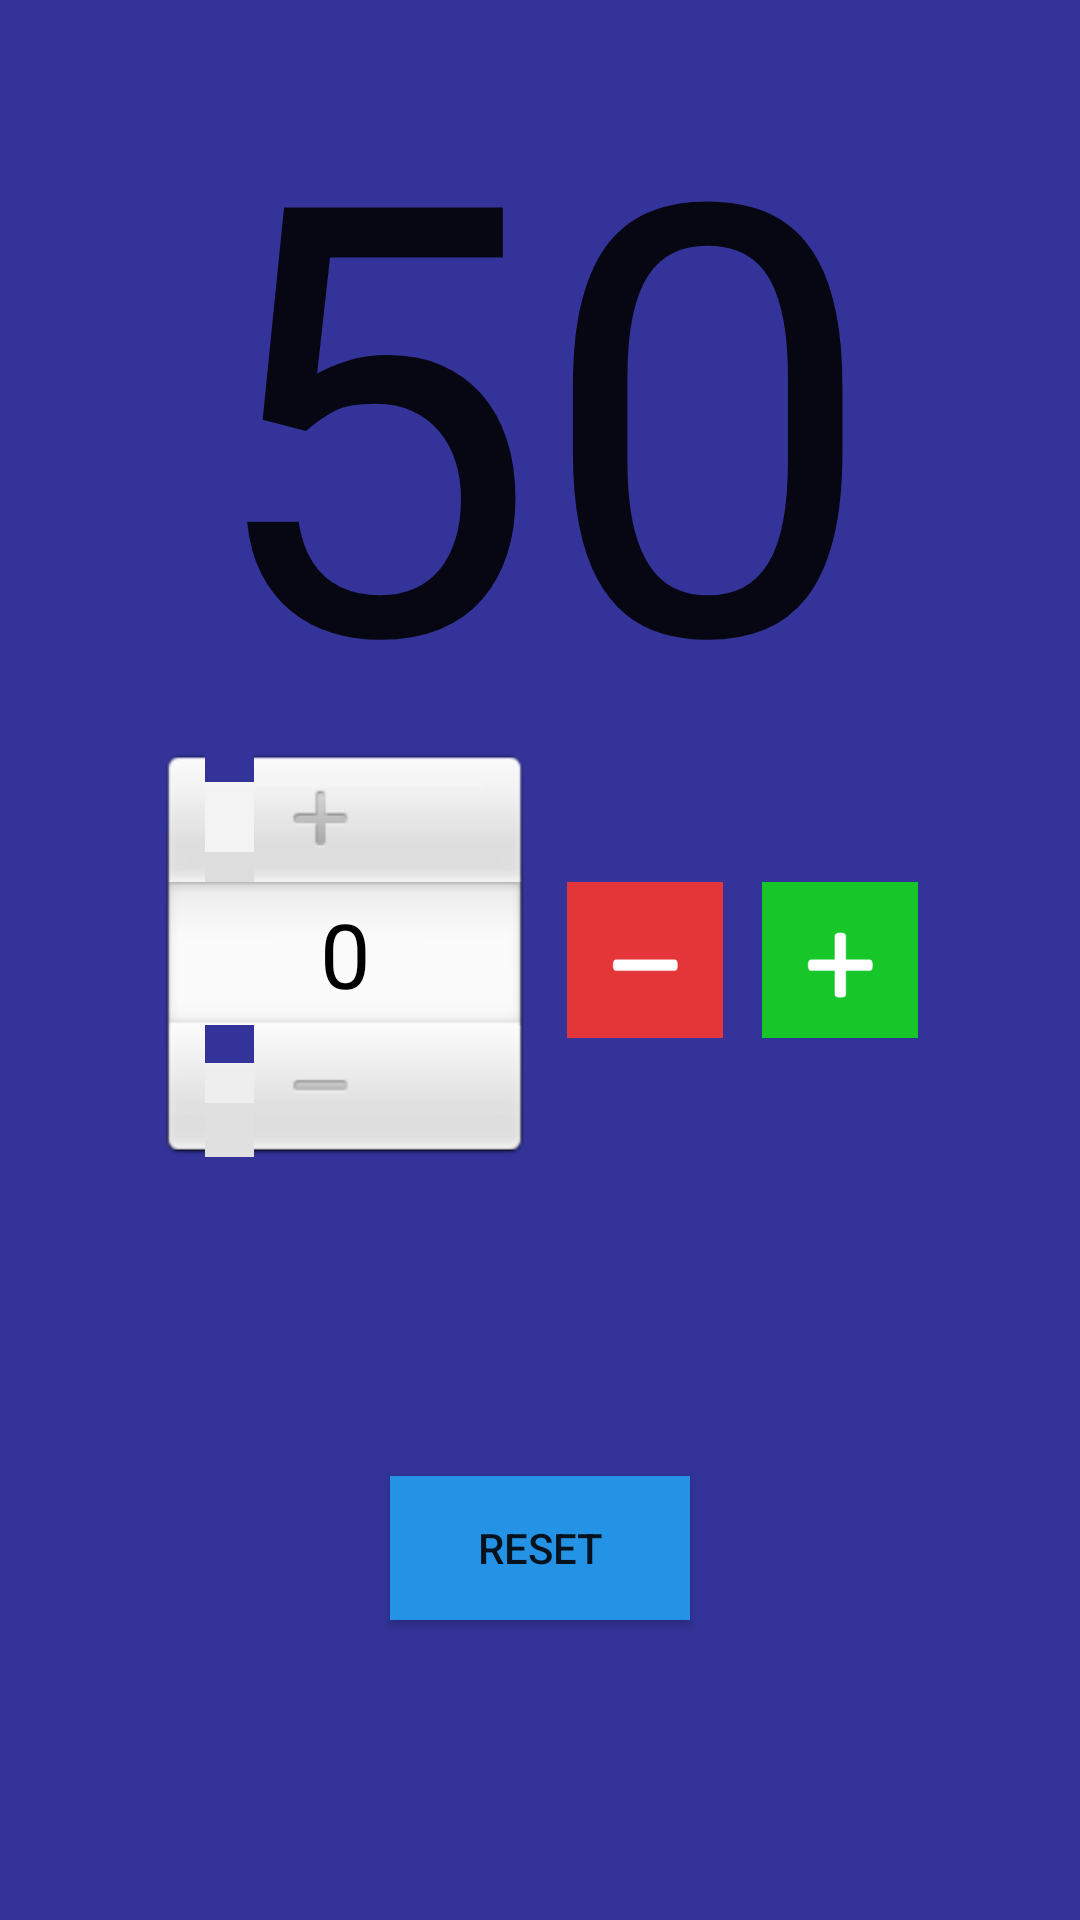

Where icons sit on this 1080px×1920px app screen, as (x1, y1, x2, y2):
squareminus: (567, 882, 723, 1038)
squareplus: (762, 882, 918, 1038)
